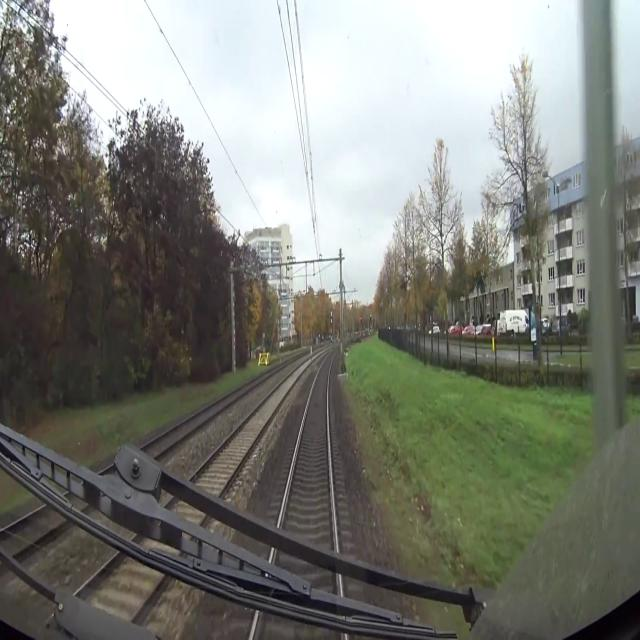rail-track: (190, 364, 305, 496), (280, 355, 335, 553), (139, 388, 245, 458), (98, 469, 112, 479)
